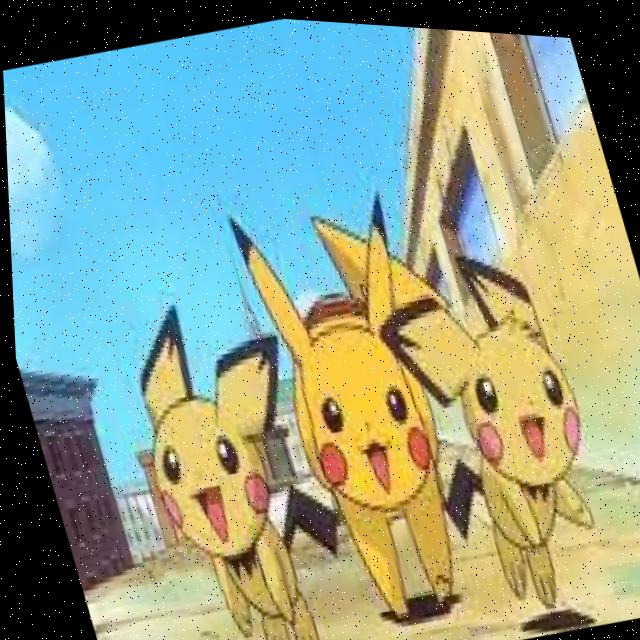pichu: (68, 267, 374, 640), (86, 269, 375, 640), (417, 223, 640, 611)
